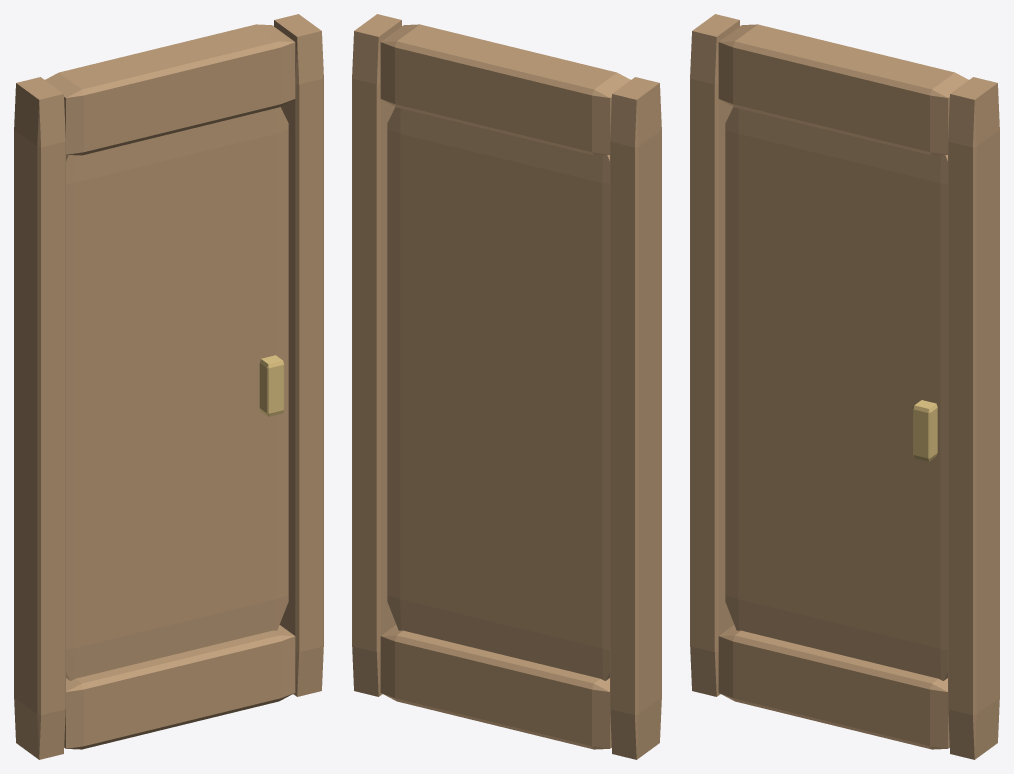
File: b21_door_wood_panel.glb
The picture shows the model from 3 angles, left to right: view 1: azimuth 30°, elevation 25°; view 2: azimuth 150°, elevation 25°; view 3: azimuth 330°, elevation 25°; orthographic projection.
Visible parts, largest first — view 1: b21_door_wood_panel; view 2: b21_door_wood_panel; view 3: b21_door_wood_panel.
Part boxes in pixels (x1,y1,x2,y2): b21_door_wood_panel: (14,14,323,759); b21_door_wood_panel: (352,14,661,759); b21_door_wood_panel: (690,14,999,759).
Bounding box in the file's own units: 1 × 2.2 × 0.176.
